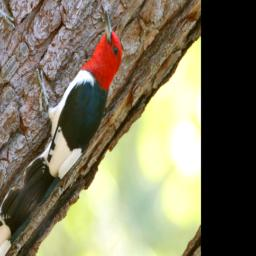Woodpecker: (0, 0, 143, 214)
